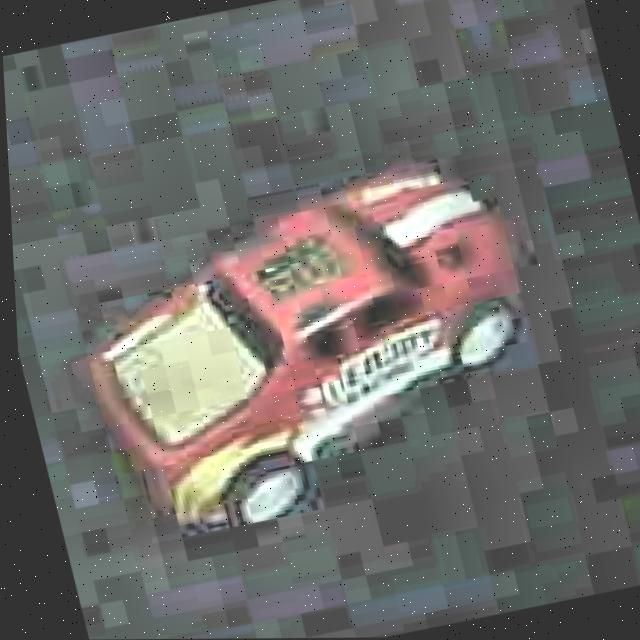car: (45, 142, 574, 567)
